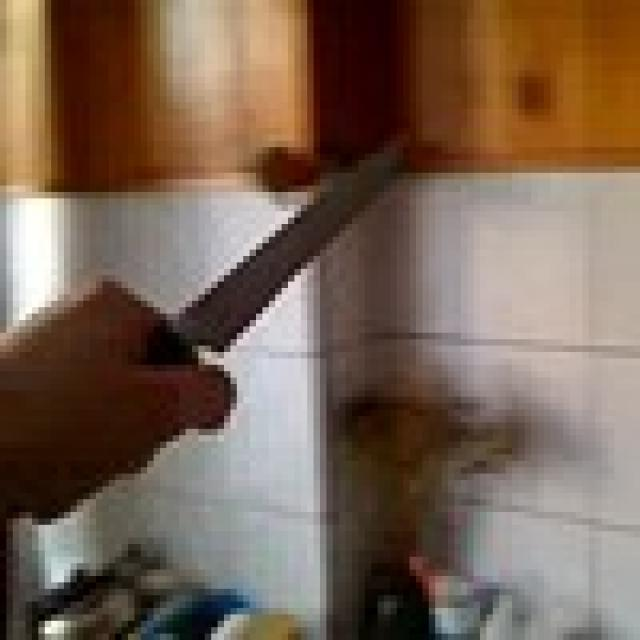knife: (168, 128, 436, 384)
